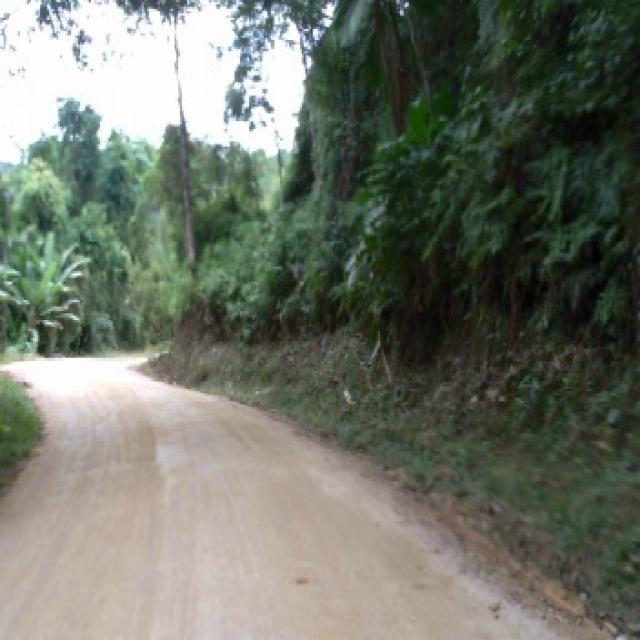Poth-hole: (400, 478, 631, 636)
